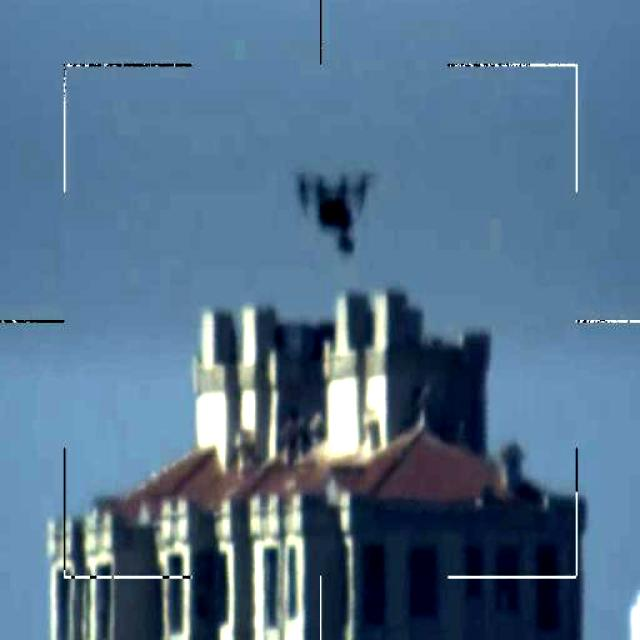bird: (290, 162, 374, 254)
